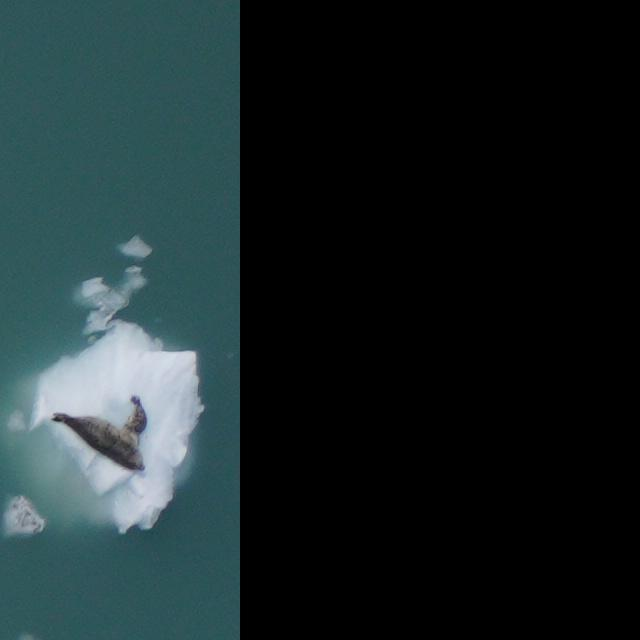seal: (44, 400, 155, 476), (115, 394, 155, 444)
